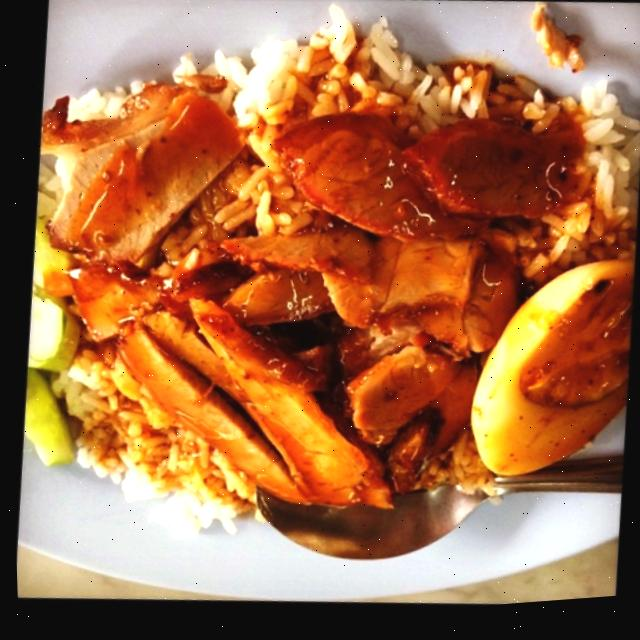猪肉菜式: (14, 3, 640, 625)
